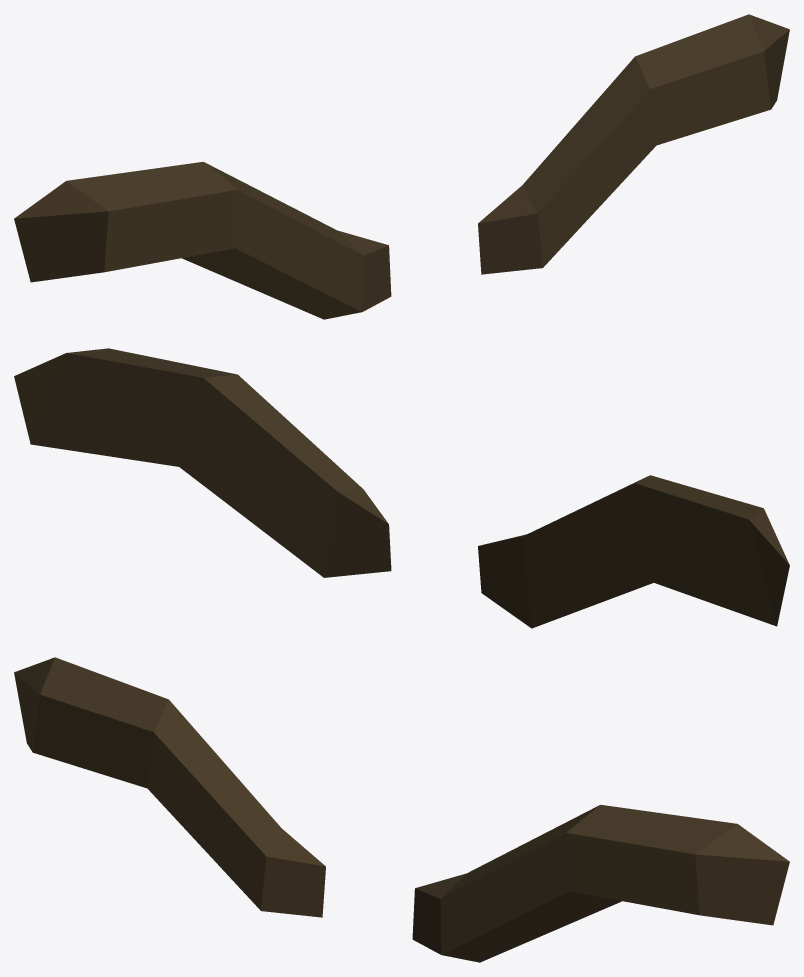
The model's file is Chr_Eyebrow_Female_07_Static.fbx.
The picture shows the model from 3 angles, top to bottom: view 1: azimuth 30°, elevation 25°; view 2: azimuth 150°, elevation 25°; view 3: azimuth 330°, elevation 25°; orthographic projection.
Visible parts, largest first — view 1: Chr_Eyebrow_Female_07_Static; view 2: Chr_Eyebrow_Female_07_Static; view 3: Chr_Eyebrow_Female_07_Static.
Boxes of the visible parts, bbox=[...] form: Chr_Eyebrow_Female_07_Static: bbox=[14, 14, 789, 319]; Chr_Eyebrow_Female_07_Static: bbox=[14, 348, 789, 628]; Chr_Eyebrow_Female_07_Static: bbox=[14, 657, 789, 962].
Bounding box in the file's own units: 0.1721 × 0.0386 × 0.0195.
